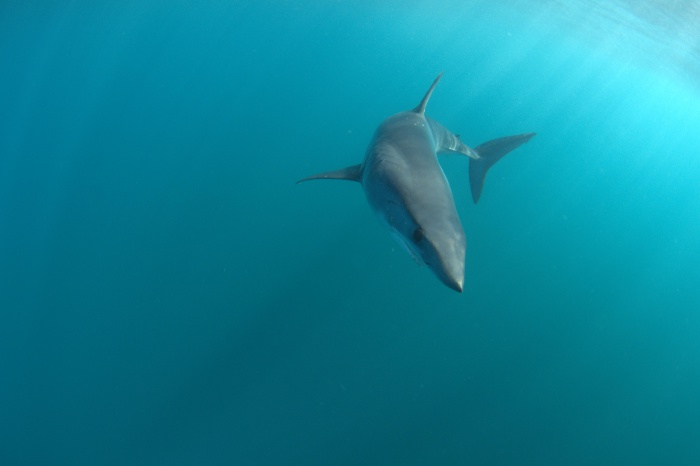Mako: (291, 56, 541, 316)
